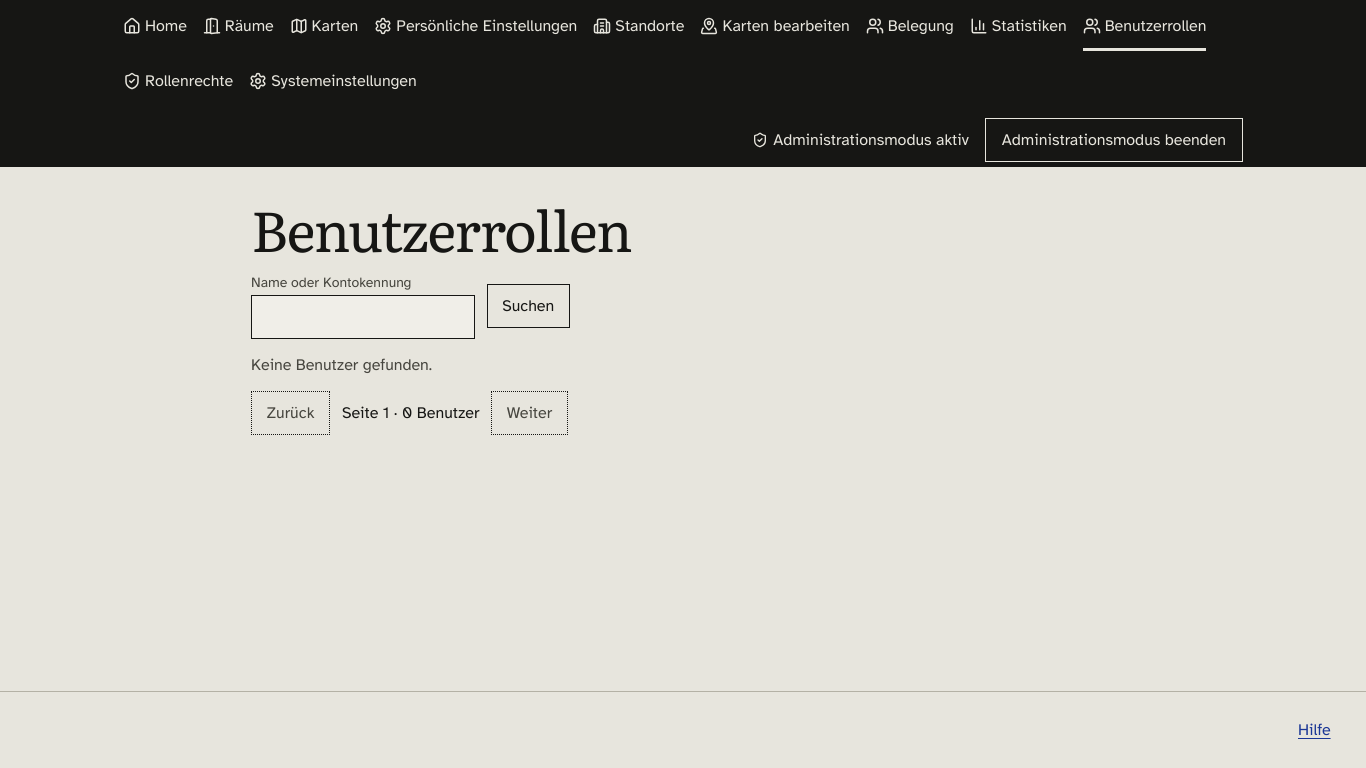
Test: administration routes and mode › leaves administration pages when the administrator ends the mode
The width and height of the screenshot is (1366, 768).
Expected: the heading "Benutzerrollen" is shown, [251, 186, 631, 269]
Click the button "Administrationsmodus beenden": (1114, 140) [985, 118, 1243, 162]
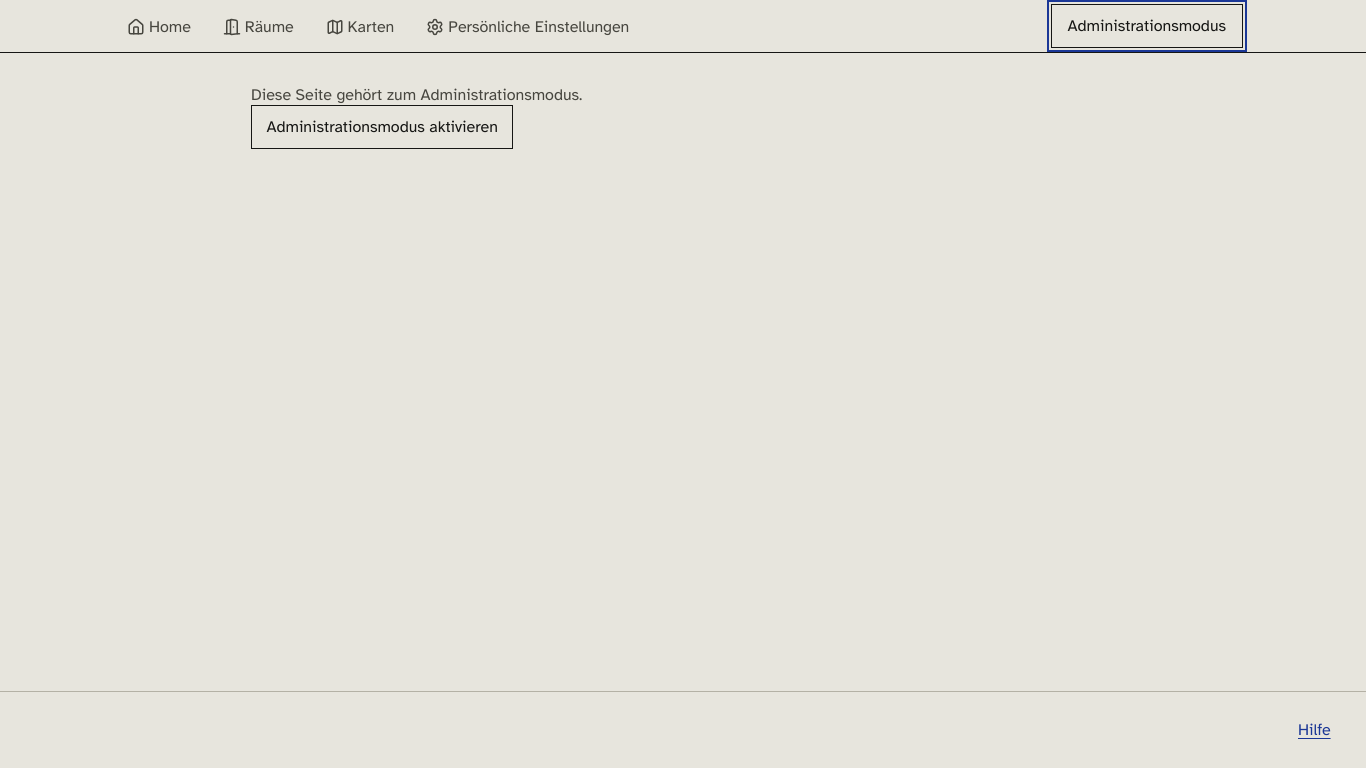
Result: the text "Diese Seite gehört zum Administrationsmodus." is shown at [251, 85, 582, 105]
Result: the link "Benutzerrollen" is gone
